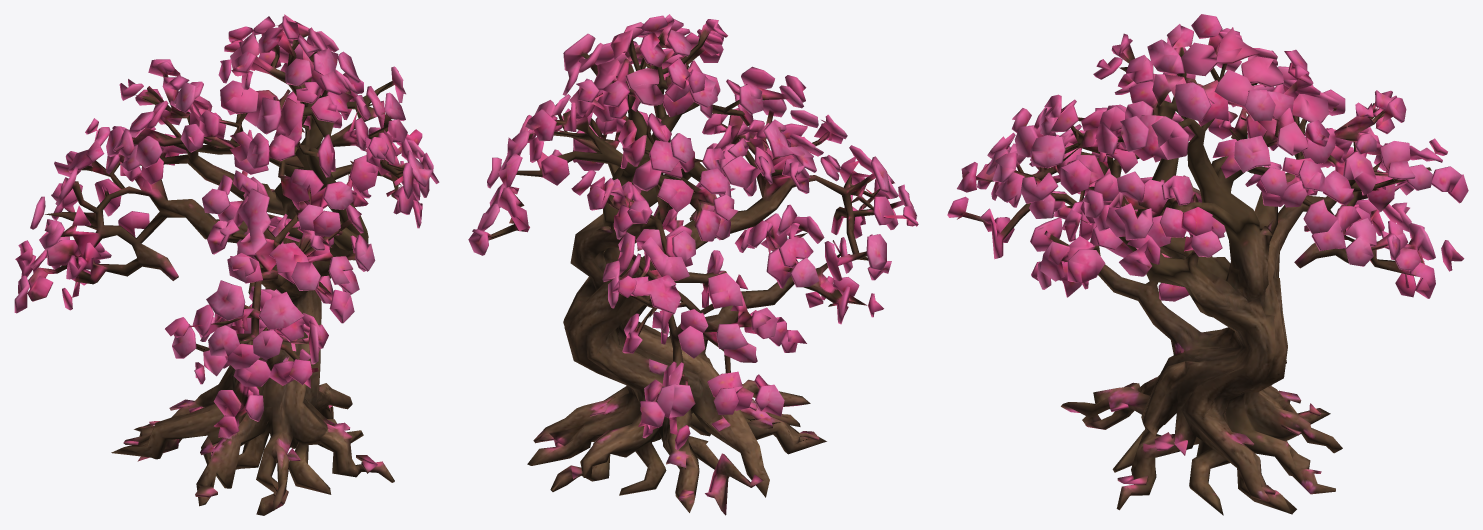
The model's file is SM_Env_Cherry.fbx.
The picture shows the model from 3 angles, left to right: view 1: azimuth 30°, elevation 25°; view 2: azimuth 150°, elevation 25°; view 3: azimuth 270°, elevation 25°; orthographic projection. The views are drawn at different scales.
Parts seen in each view (by area): view 1: SM_Env_Cherry; view 2: SM_Env_Cherry; view 3: SM_Env_Cherry.
Boxes of the visible parts, <box> form: SM_Env_Cherry: <box>14,14,439,515</box>; SM_Env_Cherry: <box>468,14,918,515</box>; SM_Env_Cherry: <box>947,14,1468,515</box>.
Size of the model in its own units: 142 by 184 by 180.
1 material, 1 textured.
